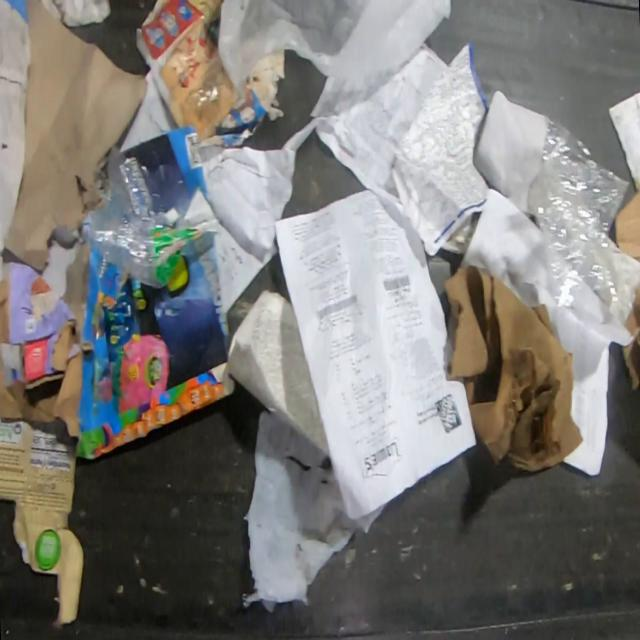cardboard: (0, 0, 148, 274), (0, 228, 96, 437), (0, 417, 86, 626), (622, 284, 640, 394), (615, 190, 640, 263)
rigid_plastic: (180, 49, 226, 134)
soft_plastic: (240, 409, 388, 614), (526, 111, 637, 328), (215, 0, 452, 98), (80, 149, 220, 291)
